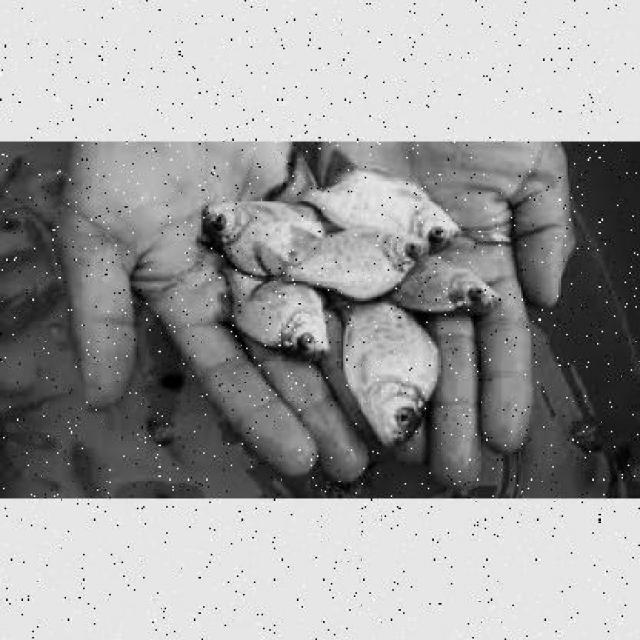ikan-pacu: (346, 306, 440, 442), (286, 223, 426, 294), (316, 167, 466, 233), (218, 270, 336, 352), (204, 195, 316, 258), (401, 250, 501, 307)
